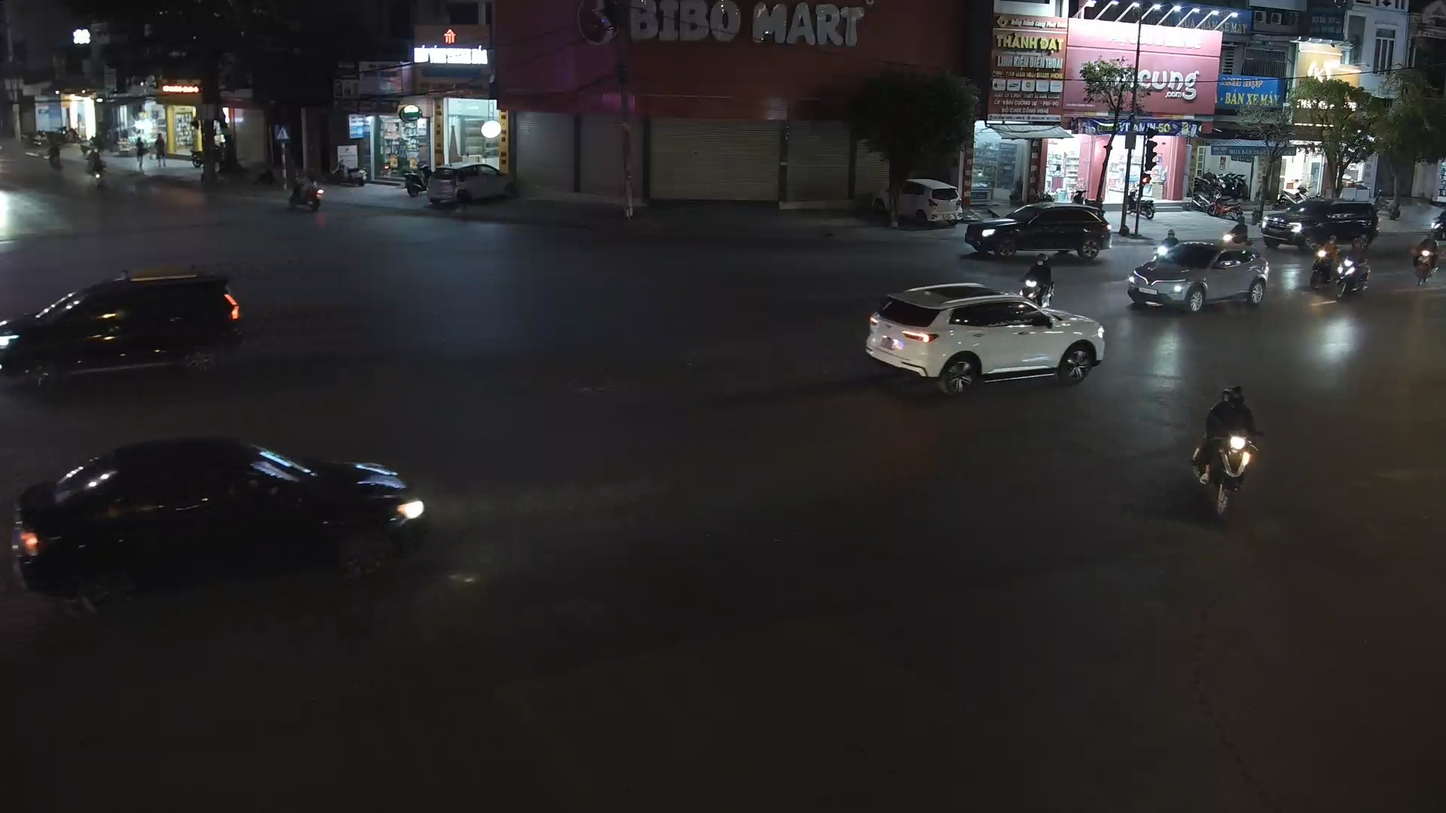car: (14, 435, 428, 620), (0, 268, 244, 390), (863, 282, 1108, 396), (1125, 239, 1269, 315), (958, 201, 1110, 264), (424, 157, 521, 207)
motorbike: (1191, 381, 1264, 517)
